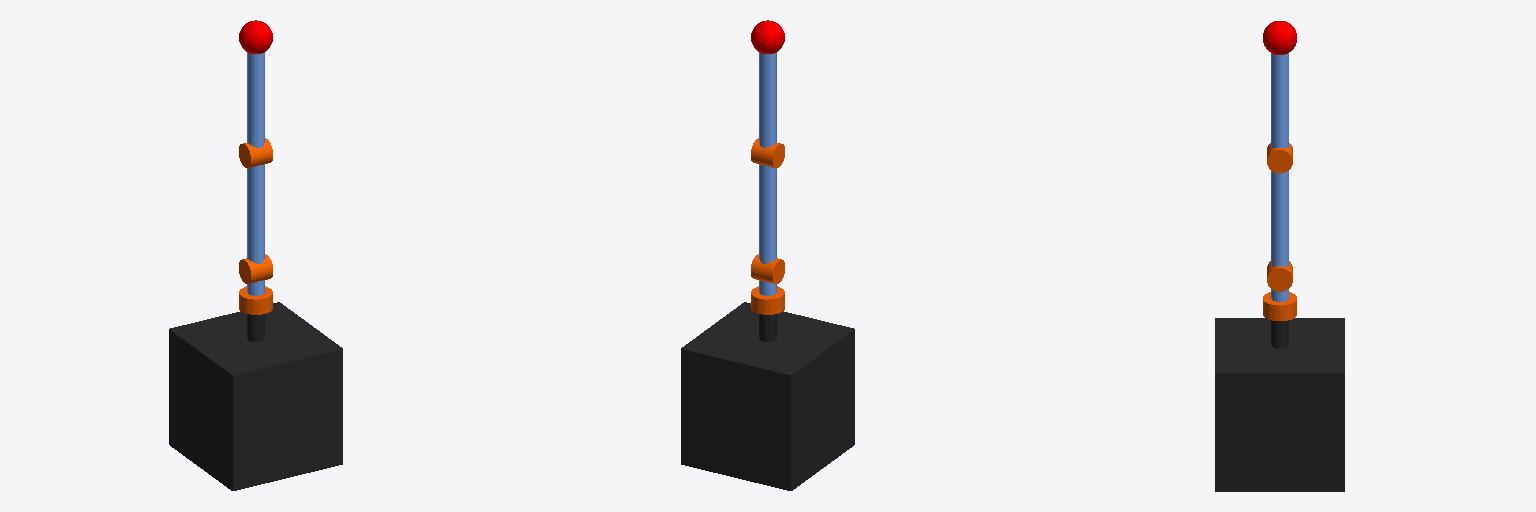
URDF robot description (Chaser):
<?xml version="1.0" ?>
<robot name="Chaser">
  <!-- Colors -->
  <material name="Grey">
    <color rgba="0.2 0.2 0.2 1.0"/>
  </material>
  <material name="Orange">
    <color rgba="1.0 0.423529411765 0.0392156862745 1.0"/>
  </material>
  <material name="Blue">
  <color rgba="0.5 0.7 1.0 1.0"/>      
  </material>
  <material name="Red">
    <color rgba="1 0 0 1.0"/>      
  </material>



  <!--Spacecraft-->
  <link name="Spacecraft">
    <inertial>
      <origin rpy="0 0 0" xyz="0 0 0"/>
      <mass value="100"/>
      <inertia ixx="9.3" ixy="0" ixz="0" iyy="9.3" iyz="0" izz="9.3"/>
    </inertial>
    <visual>
      <origin rpy="0 0 0" xyz="0 0 0"/>
      <geometry>
        <box size="0.75 0.75 0.75" />
      </geometry>
      <material name="Grey"/>
    </visual>
  </link>
  <!-- Joint to Manipulator -->
  <joint name="Spacecraft_Manipulator_Joint" type="fixed">
    <parent link="Spacecraft"/>
    <child link="Link_0"/>
    <origin rpy="0 0 0" xyz="0 0 0.375"/>
    <axis xyz="0 0 1"/>
  </joint>



  
  <!--Manipulator-->
  <!-- Link 0 -->
  <link name="Link_0">
    <inertial>
      <origin rpy="0 0 0" xyz="0 0 0.125"/>
      <mass value="5"/>
      <inertia ixx="0.05" ixy="0" ixz="0" iyy="0.05" iyz="0" izz="0.05"/>
    </inertial>
    <visual>
      <origin rpy="0 0 0" xyz="0 0 0.125"/>
      <geometry>
        <cylinder radius="0.05" length="0.25"/>
      </geometry>
      <material name="Grey"/>
    </visual>
  </link>
  <!-- Joint 1 -->
  <joint name="Joint_1" type="revolute">
    <parent link="Link_0"/>
    <child link="Link_1"/>
    <origin rpy="0 0 0" xyz="0 0 0.25"/>
    <axis xyz="0 0 1"/>
  </joint>
    <!-- Link 1 -->
  <link name="Link_1">
    <inertial>
      <origin rpy="0 0 0" xyz="0 0 0.1"/>
      <mass value="5"/>
      <inertia ixx="0.05" ixy="0" ixz="0" iyy="0.05" iyz="0" izz="0.05"/>
    </inertial>
    <visual>
      <origin rpy="0 0 0" xyz="0 0 0.1"/>
      <geometry>
        <cylinder radius="0.05" length="0.2"/>
      </geometry>
      <material name="Blue"/>
    </visual>
    <visual>
      <origin rpy="0 0 0" xyz="0 0 0"/>
      <geometry>
        <cylinder radius="0.1" length="0.1"/>
      </geometry>
      <material name="Orange"/>
    </visual>
  </link>
  <!-- Joint 2 -->
  <joint name="Joint_2" type="revolute">
    <parent link="Link_1"/>
    <child link="Link_2"/>
    <origin rpy="0 0 0" xyz="0 0 0.2"/>
    <axis xyz="1 0 0"/>
  </joint>
    <!-- Link 2 -->
  <link name="Link_2">
    <inertial>
      <origin rpy="0 0 0" xyz="0 0 0.375"/>
      <mass value="10"/>
      <inertia ixx="0.1" ixy="0" ixz="0" iyy="0.1" iyz="0" izz="0.1"/>
    </inertial>
    <visual>
      <origin rpy="0 0 0" xyz="0 0 0.375"/>
      <geometry>
        <cylinder radius="0.05" length="0.75"/>
      </geometry>
      <material name="Blue"/>
    </visual>
    <visual>
      <origin rpy="0 1.5708 0" xyz="0 0 0"/>
      <geometry>
        <cylinder radius="0.075" length="0.15"/>
      </geometry>
      <material name="Orange"/>
    </visual>
  </link>
  <!-- Joint 3 -->
  <joint name="Joint_3" type="revolute">
    <parent link="Link_2"/>
    <child link="Link_3"/>
    <origin rpy="0 0 0" xyz="0 0 0.75"/>
    <axis xyz="1 0 0"/>
  </joint>
    <!-- Link 3 -->
  <link name="Link_3">
    <inertial>
      <origin rpy="0 0 0" xyz="0 0 0.375"/>
      <mass value="10"/>
      <inertia ixx="0.1" ixy="0" ixz="0" iyy="0.1" iyz="0" izz="0.1"/>
    </inertial>
    <visual>
      <origin rpy="0 0 0" xyz="0 0 0.375"/>
      <geometry>
        <cylinder radius="0.05" length="0.75"/>
      </geometry>
      <material name="Blue"/>
    </visual>
    <visual>
      <origin rpy="0 1.5708 0" xyz="0 0 0"/>
      <geometry>
        <cylinder radius="0.075" length="0.15"/>
      </geometry>
      <material name="Orange"/>
    </visual>
  </link>
  <!-- Joint End-Effector -->
  <joint name="Joint_EE" type="fixed">
    <parent link="Link_3"/>
    <child link="Link_EE"/>
    <origin rpy="0 0 0" xyz="0 0 0.75"/>
    <axis xyz="1 0 0"/>
  </joint>
    <!-- End-Effector -->
  <link name="Link_EE">
    <inertial>
      <origin rpy="0 0 0" xyz="0 0 0"/>
      <mass value="0"/>
      <inertia ixx="0" ixy="0" ixz="0" iyy="0" iyz="0" izz="0"/>
    </inertial>
    <visual>
      <origin rpy="0 0 0" xyz="0 0 0"/>
      <geometry>
        <sphere radius="0.1"/>
      </geometry>
      <material name="Red"/>
    </visual>
  </link>
  
</robot>

--- Facts derived from the render (not from the file) ---
The picture shows the robot from 3 angles, left to right: view 1: azimuth 30°, elevation 25°; view 2: azimuth 150°, elevation 25°; view 3: azimuth 270°, elevation 25°; orthographic projection.
Model Chaser with 6 links and 5 joints (3 revolute, 2 fixed), rooted at Spacecraft, posed every joint at zero.
Links seen in each view (by area): view 1: Spacecraft, Link_2, Link_3, Link_1, Link_EE; view 2: Spacecraft, Link_2, Link_3, Link_1, Link_EE; view 3: Spacecraft, Link_2, Link_3, Link_EE, Link_1.
Boxes of the visible links, x1,y1,x2,y2 form: Spacecraft: [169, 302, 342, 490]; Link_2: [239, 164, 272, 283]; Link_3: [239, 52, 272, 168]; Link_1: [239, 280, 272, 314]; Link_EE: [239, 20, 272, 53]; Spacecraft: [681, 302, 854, 490]; Link_2: [751, 164, 784, 283]; Link_3: [751, 52, 784, 168]; Link_1: [751, 280, 784, 314]; Link_EE: [751, 20, 784, 53]; Spacecraft: [1215, 318, 1344, 491]; Link_2: [1267, 171, 1292, 291]; Link_3: [1267, 53, 1292, 173]; Link_EE: [1263, 21, 1296, 54]; Link_1: [1263, 289, 1296, 320].
Size in the robot's own frame: 0.75 by 0.75 by 2.8 metres.
Geometry: primitives only (box / cylinder / sphere), no mesh files.